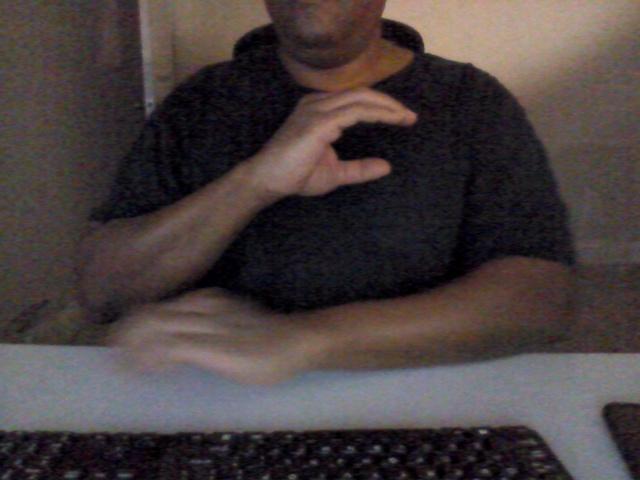police: (255, 83, 424, 205)
